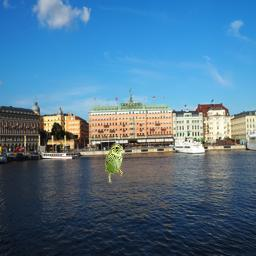Sparrow: (105, 144, 123, 184)
